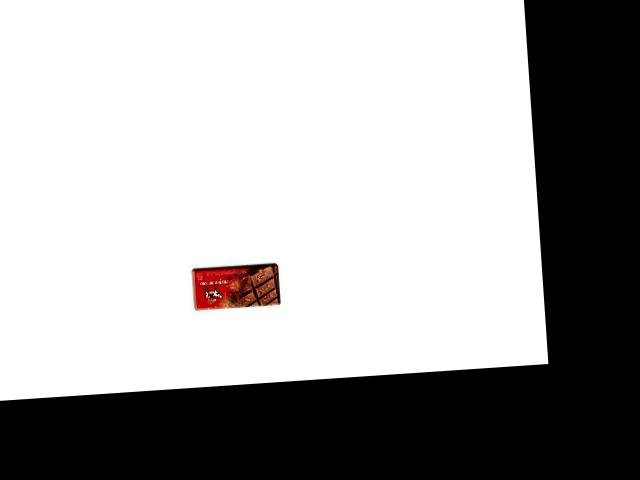chocolate: (190, 261, 282, 312)
